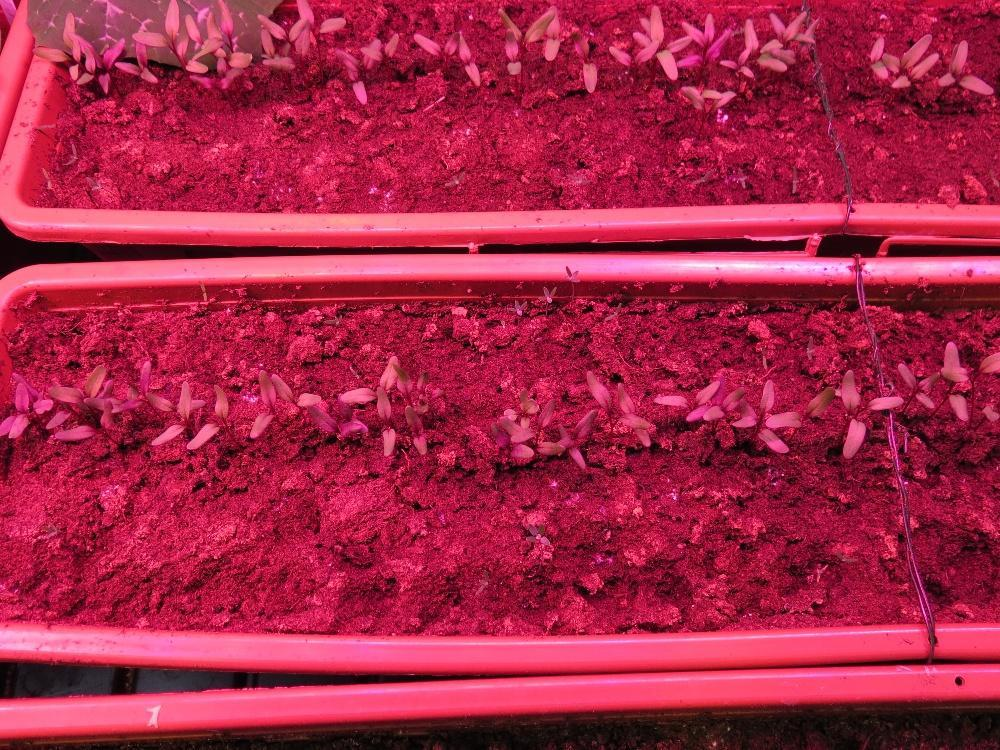crop: (569, 27, 597, 94)
weed: (523, 520, 550, 546), (688, 166, 716, 188), (441, 165, 468, 187), (833, 543, 858, 565), (504, 295, 527, 317), (473, 565, 489, 595), (534, 282, 556, 303), (600, 300, 621, 322), (802, 328, 815, 361), (63, 137, 77, 167), (39, 518, 61, 537), (562, 264, 581, 284), (321, 312, 343, 328), (788, 161, 798, 196), (40, 165, 53, 191), (758, 340, 768, 368), (197, 277, 206, 303)
